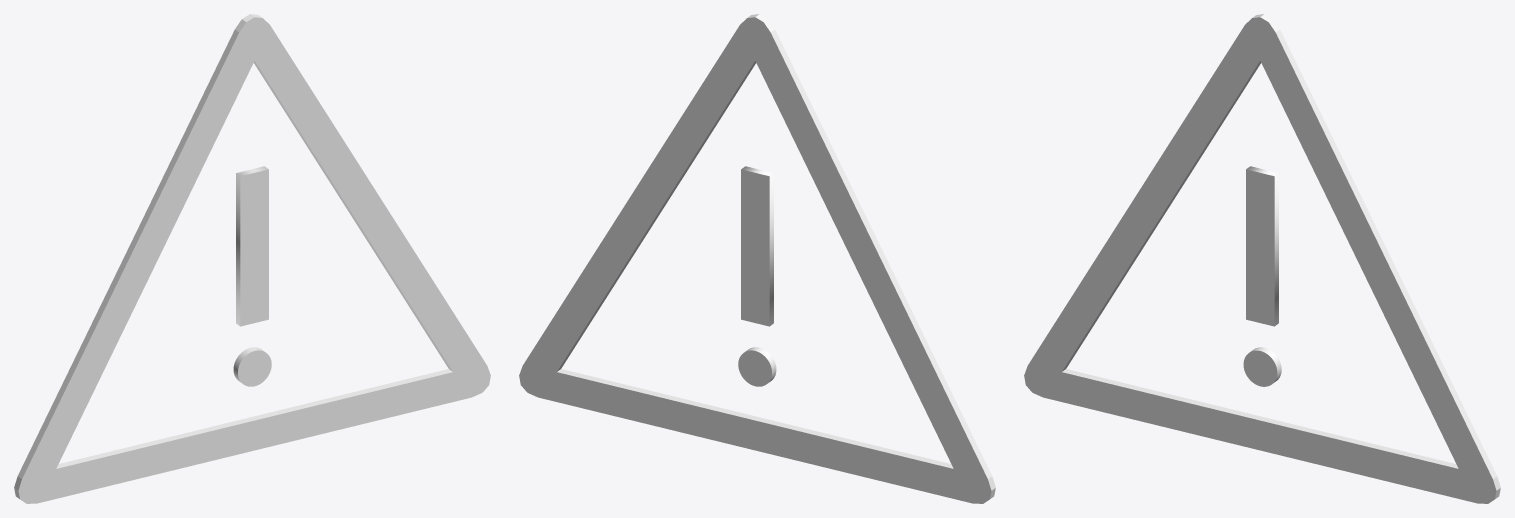
Rendered from Warning_Icon.fbx.
3 renders of one model, left to right at view 1: azimuth 30°, elevation 25°; view 2: azimuth 150°, elevation 25°; view 3: azimuth 330°, elevation 25°, orthographic.
Parts seen in each view (by area): view 1: Warning_3D_Icon; view 2: Warning_3D_Icon; view 3: Warning_3D_Icon.
Boxes of the visible parts, x1=… form: Warning_3D_Icon: x1=14, y1=14, x2=490, y2=503; Warning_3D_Icon: x1=519, y1=14, x2=995, y2=503; Warning_3D_Icon: x1=1024, y1=14, x2=1500, y2=503.
Bounding box in the file's own units: 118 × 103 × 1.9.
